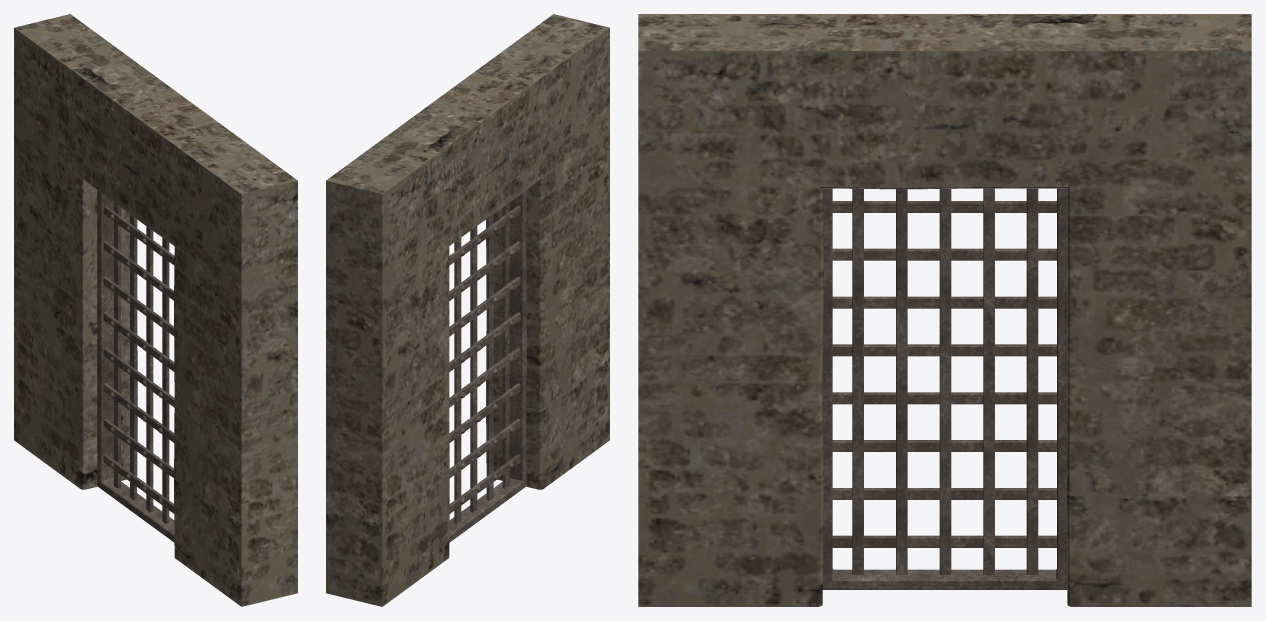
Rendered from SM_Modular_Wall_Door_02a.gltf.
3 views of the same model, side by side, from view 1: azimuth 30°, elevation 25°; view 2: azimuth 150°, elevation 25°; view 3: azimuth 270°, elevation 25° (orthographic). The views are drawn at different scales.
Parts seen in each view (by area): view 1: SM_Modular_Wall_Door_02a_LOD0; view 2: SM_Modular_Wall_Door_02a_LOD0; view 3: SM_Modular_Wall_Door_02a_LOD0.
Boxes of the visible parts, left/top/right/bottom form: SM_Modular_Wall_Door_02a_LOD0: left=14, top=14, right=297, bottom=606; SM_Modular_Wall_Door_02a_LOD0: left=326, top=14, right=609, bottom=606; SM_Modular_Wall_Door_02a_LOD0: left=638, top=14, right=1251, bottom=606.
Size of what is drawn, in the model's own units: 1 by 7 by 7.
Materials: 2 (2 with a texture image).
